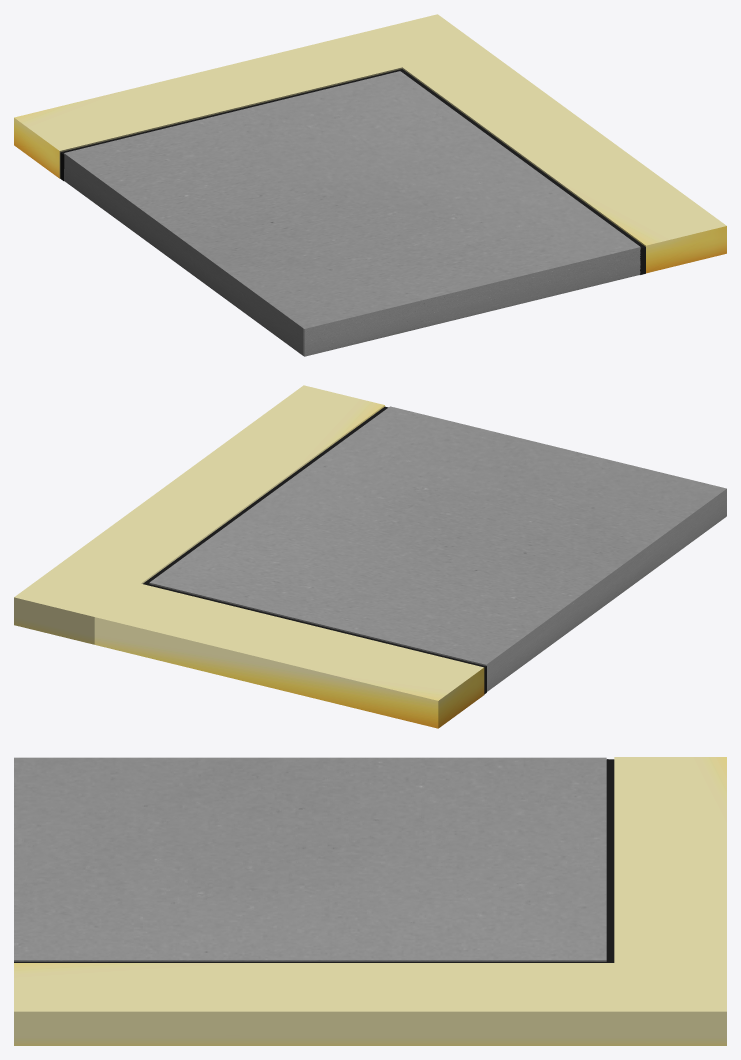
The model's file is BanquetaEsquina.obj.
3 views of the same model, one above another, from view 1: azimuth 30°, elevation 25°; view 2: azimuth 150°, elevation 25°; view 3: azimuth 270°, elevation 25° (orthographic). The views are drawn at different scales.
Parts seen in each view (by area): view 1: BanquetaEsquina:pCube79, pCube79; view 2: pCube79, BanquetaEsquina:pCube79; view 3: pCube79, BanquetaEsquina:pCube79.
Boxes of the visible parts, bbox=[...] form: BanquetaEsquina:pCube79: bbox=[14, 34, 644, 355]; pCube79: bbox=[63, 14, 726, 356]; pCube79: bbox=[14, 385, 726, 692]; BanquetaEsquina:pCube79: bbox=[94, 407, 726, 728]; pCube79: bbox=[14, 757, 726, 1045]; BanquetaEsquina:pCube79: bbox=[16, 757, 726, 963].
Bounding box in the file's own units: 1.95 × 0.1235 × 2.31.
4 materials, 4 textured.
